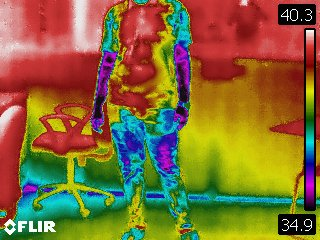human: (90, 1, 201, 240)
